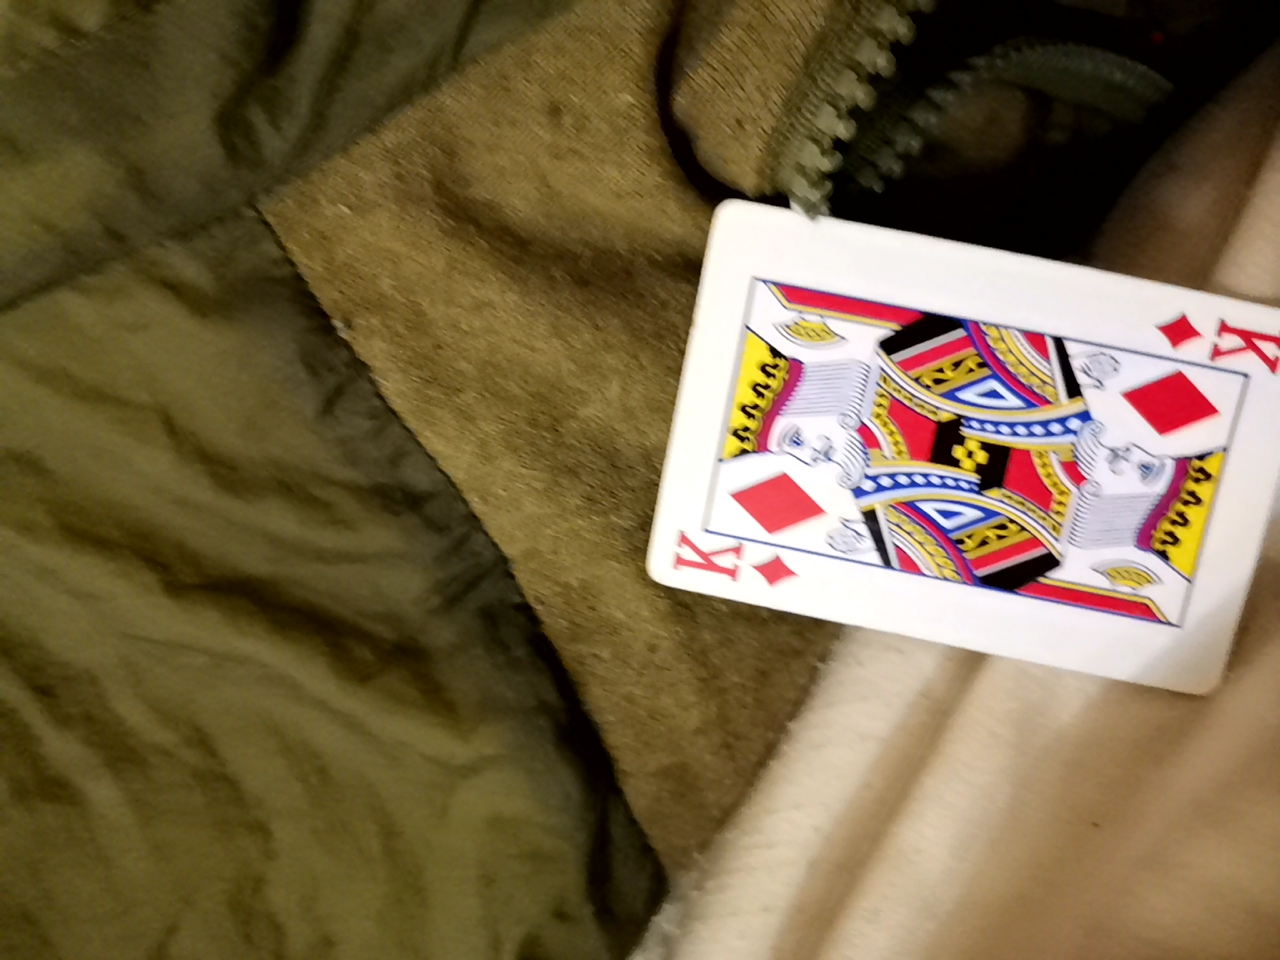fk k: (585, 194, 1275, 690)
